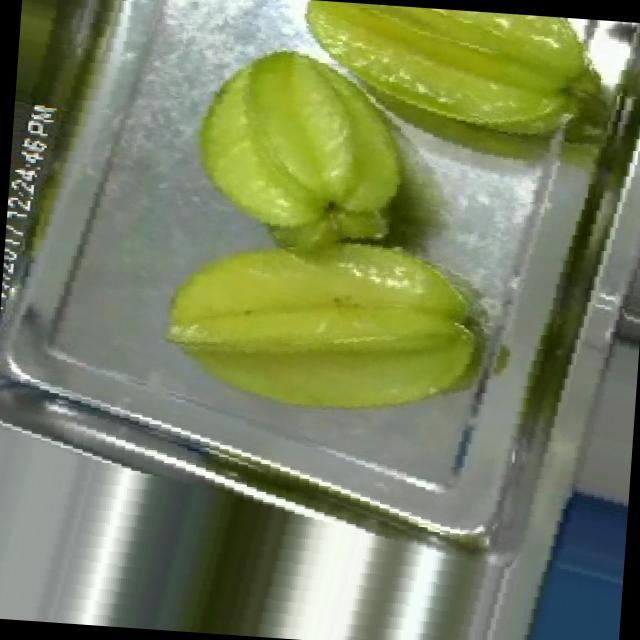fruit: (132, 162, 516, 471), (160, 0, 453, 270), (274, 0, 620, 186), (12, 0, 106, 135)
